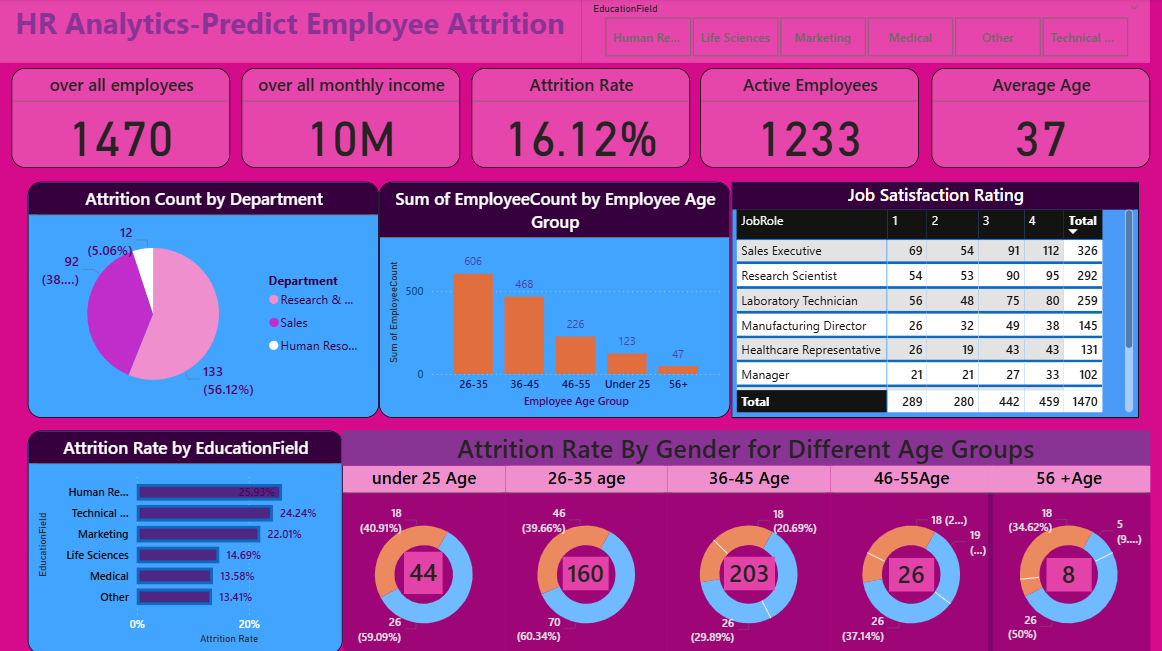

What the dashboard file says about the page in this screenshot:
{"tool":"powerbi","page":{"name":"Page 1","canvas":[1280,720],"ordinal":0},"visuals":[{"type":"card","title":"over all employees","fields":{"Values":["Sum(WA_Fn-UseC_-HR-Employee-Attriti.EmployeeCount)"]},"box":[13.7,76.8,240.1,109.8],"z":0},{"type":"card","title":"over all monthly income","fields":{"Values":["Sum(WA_Fn-UseC_-HR-Employee-Attriti.MonthlyIncome)"]},"box":[266.2,76.8,240.1,109.8],"z":1000},{"type":"card","title":"Attrition Rate","fields":{"Values":["WA_Fn-UseC_-HR-Employee-Attriti.Attrition Rate"]},"box":[518.7,76.8,240.1,109.8],"z":2000},{"type":"card","title":"Active Employees","fields":{"Values":["WA_Fn-UseC_-HR-Employee-Attriti.Active Employees"]},"box":[769.8,76.8,240.1,109.8],"z":3000},{"type":"card","title":"Average Age","fields":{"Values":["WA_Fn-UseC_-HR-Employee-Attriti.Average Age"]},"box":[1023.7,76.8,240.1,109.8],"z":4000},{"type":"pieChart","fields":{"Category":["WA_Fn-UseC_-HR-Employee-Attriti.Department"],"Y":["WA_Fn-UseC_-HR-Employee-Attriti.Attrition Count"]},"box":[31.6,201.7,385.6,259.3],"z":5000},{"type":"columnChart","fields":{"Category":["WA_Fn-UseC_-HR-Employee-Attriti.Employee Age Group"],"Y":["Sum(WA_Fn-UseC_-HR-Employee-Attriti.EmployeeCount)"]},"box":[417.2,201.7,385.6,259.3],"z":6000},{"type":"pivotTable","title":"Job Satisfaction Rating","fields":{"Rows":["WA_Fn-UseC_-HR-Employee-Attriti.JobRole"],"Columns":["WA_Fn-UseC_-HR-Employee-Attriti.JobSatisfaction"],"Values":["Sum(WA_Fn-UseC_-HR-Employee-Attriti.EmployeeCount)"]},"box":[804.1,201.7,447.3,259.3],"z":7000},{"type":"clusteredBarChart","fields":{"Category":["WA_Fn-UseC_-HR-Employee-Attriti.EducationField"],"Y":["WA_Fn-UseC_-HR-Employee-Attriti.Attrition Rate"]},"box":[31.6,474.8,345.8,245.6],"z":8000},{"type":"donutChart","title":"under 25 Age","fields":{"Category":["WA_Fn-UseC_-HR-Employee-Attriti.Gender"],"Y":["WA_Fn-UseC_-HR-Employee-Attriti.Attrition Count"],"Series":["WA_Fn-UseC_-HR-Employee-Attriti.Employee Age Group"]},"box":[377.4,513.2,178.4,207.2],"z":9000},{"type":"textbox","title":"Attrition Rate By Gender for Different Age Groups","box":[376,474.8,887.8,38.4],"z":10000},{"type":"donutChart","title":"26-35 age ","fields":{"Category":["WA_Fn-UseC_-HR-Employee-Attriti.Gender"],"Y":["WA_Fn-UseC_-HR-Employee-Attriti.Attrition Count"],"Series":["WA_Fn-UseC_-HR-Employee-Attriti.Employee Age Group"]},"box":[555.7,513.2,178.4,207.2],"z":11000},{"type":"donutChart","title":"36-45 Age","fields":{"Category":["WA_Fn-UseC_-HR-Employee-Attriti.Gender"],"Y":["WA_Fn-UseC_-HR-Employee-Attriti.Attrition Count"],"Series":["WA_Fn-UseC_-HR-Employee-Attriti.Employee Age Group"]},"box":[734.1,513.2,178.4,207.2],"z":12000},{"type":"donutChart","title":"46-55Age","fields":{"Category":["WA_Fn-UseC_-HR-Employee-Attriti.Gender"],"Y":["WA_Fn-UseC_-HR-Employee-Attriti.Attrition Count"],"Series":["WA_Fn-UseC_-HR-Employee-Attriti.Employee Age Group"]},"box":[912.5,513.2,178.4,207.2],"z":13000},{"type":"donutChart","title":"56 +Age","fields":{"Category":["WA_Fn-UseC_-HR-Employee-Attriti.Gender"],"Y":["WA_Fn-UseC_-HR-Employee-Attriti.Attrition Count"],"Series":["WA_Fn-UseC_-HR-Employee-Attriti.Employee Age Group"]},"box":[1085.4,513.2,178.4,207.2],"z":14000},{"type":"card","fields":{"Values":["WA_Fn-UseC_-HR-Employee-Attriti.Attrition Count"]},"box":[444.6,607.9,42.5,46.7],"z":15000},{"type":"card","fields":{"Values":["WA_Fn-UseC_-HR-Employee-Attriti.Attrition Count"]},"box":[618.9,613.4,50.8,37],"z":16000},{"type":"card","fields":{"Values":["WA_Fn-UseC_-HR-Employee-Attriti.Attrition Count"]},"box":[795.9,613.4,56.3,37],"z":17000},{"type":"card","fields":{"Values":["WA_Fn-UseC_-HR-Employee-Attriti.Attrition Count"]},"box":[977,614.8,49.4,37],"z":18000},{"type":"card","fields":{"Values":["WA_Fn-UseC_-HR-Employee-Attriti.Attrition Count"]},"box":[1149.9,614.8,49.4,37],"z":19000},{"type":"textbox","box":[0,0,639.5,71.4],"z":20000},{"type":"slicer","fields":{"Values":["WA_Fn-UseC_-HR-Employee-Attriti.EducationField"]},"box":[639.5,0,624.4,71.4],"z":21000}]}

Visuals, with their boxes in screenshot pixels (x1, y1, x2, y2), scaled from the page's 1280x720 canvas onto the 1162x651 screenshot:
"over all employees" card: {"left": 12, "top": 69, "right": 230, "bottom": 169}
"over all monthly income" card: {"left": 242, "top": 69, "right": 460, "bottom": 169}
"Attrition Rate" card: {"left": 471, "top": 69, "right": 689, "bottom": 169}
"Active Employees" card: {"left": 699, "top": 69, "right": 917, "bottom": 169}
"Average Age" card: {"left": 929, "top": 69, "right": 1147, "bottom": 169}
pieChart - WA_Fn-UseC_-HR-Employee-Attriti.Department x WA_Fn-UseC_-HR-Employee-Attriti.Attrition Count: {"left": 29, "top": 182, "right": 379, "bottom": 417}
columnChart - WA_Fn-UseC_-HR-Employee-Attriti.Employee Age Group x Sum(WA_Fn-UseC_-HR-Employee-Attriti.EmployeeCount): {"left": 379, "top": 182, "right": 729, "bottom": 417}
"Job Satisfaction Rating" pivotTable: {"left": 730, "top": 182, "right": 1136, "bottom": 417}
clusteredBarChart - WA_Fn-UseC_-HR-Employee-Attriti.EducationField x WA_Fn-UseC_-HR-Employee-Attriti.Attrition Rate: {"left": 29, "top": 429, "right": 343, "bottom": 650}
"under 25 Age" donutChart: {"left": 343, "top": 464, "right": 505, "bottom": 650}
"Attrition Rate By Gender for Different Age Groups" textbox: {"left": 341, "top": 429, "right": 1147, "bottom": 464}
"26-35 age " donutChart: {"left": 504, "top": 464, "right": 666, "bottom": 650}
"36-45 Age" donutChart: {"left": 666, "top": 464, "right": 828, "bottom": 650}
"46-55Age" donutChart: {"left": 828, "top": 464, "right": 990, "bottom": 650}
"56 +Age" donutChart: {"left": 985, "top": 464, "right": 1147, "bottom": 650}
card - WA_Fn-UseC_-HR-Employee-Attriti.Attrition Count: {"left": 404, "top": 550, "right": 442, "bottom": 592}
card - WA_Fn-UseC_-HR-Employee-Attriti.Attrition Count: {"left": 562, "top": 555, "right": 608, "bottom": 588}
card - WA_Fn-UseC_-HR-Employee-Attriti.Attrition Count: {"left": 723, "top": 555, "right": 774, "bottom": 588}
card - WA_Fn-UseC_-HR-Employee-Attriti.Attrition Count: {"left": 887, "top": 556, "right": 932, "bottom": 589}
card - WA_Fn-UseC_-HR-Employee-Attriti.Attrition Count: {"left": 1044, "top": 556, "right": 1089, "bottom": 589}
textbox: {"left": 0, "top": 0, "right": 581, "bottom": 65}
slicer - WA_Fn-UseC_-HR-Employee-Attriti.EducationField: {"left": 581, "top": 0, "right": 1147, "bottom": 65}
